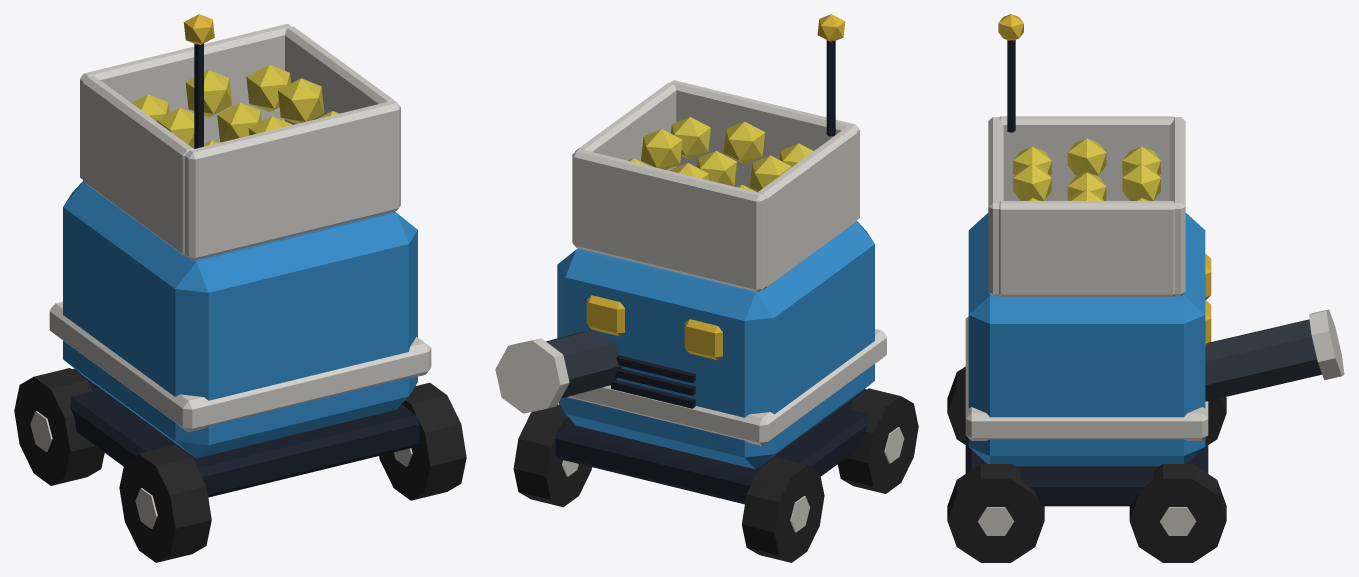
Rendered from machine.glb.
3 views of the same model, side by side, from view 1: azimuth 30°, elevation 25°; view 2: azimuth 150°, elevation 25°; view 3: azimuth 270°, elevation 25° (orthographic). The views are drawn at different scales.
Parts seen in each view (by area): view 1: machine; view 2: machine; view 3: machine.
Part boxes in pixels (x1=…): machine: x1=14, y1=14, x2=466, y2=562; machine: x1=495, y1=14, x2=918, y2=562; machine: x1=947, y1=14, x2=1344, y2=562.
Bounding box in the file's own units: 0.97 × 1.64 × 1.31.
